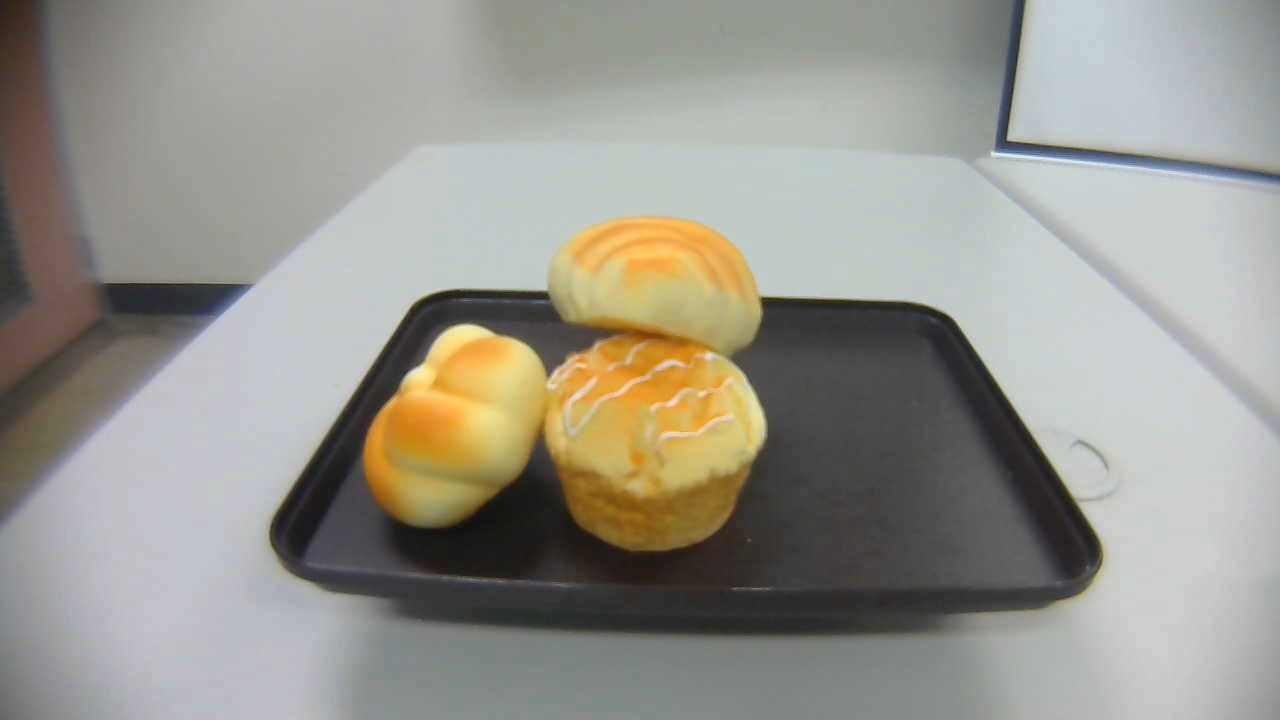croissant: (546, 216, 764, 360)
cupcake: (545, 335, 768, 550)
twist bread: (363, 322, 548, 532)
